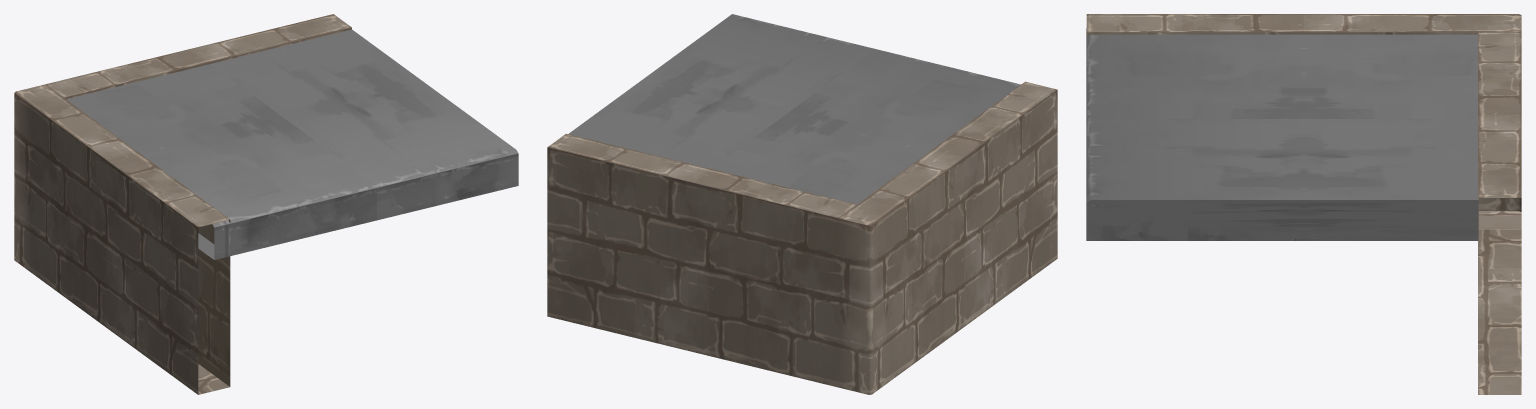
File: Stairs_Exterior_Platform45Clean.gltf
3 views of the same model, side by side, from view 1: azimuth 30°, elevation 25°; view 2: azimuth 150°, elevation 25°; view 3: azimuth 270°, elevation 25° (orthographic). The views are drawn at different scales.
Visible parts, largest first — view 1: Stairs_Exterior_Platform45Clean; view 2: Stairs_Exterior_Platform45Clean; view 3: Stairs_Exterior_Platform45Clean.
Boxes of the visible parts, x1,y1,x2,y2 form: Stairs_Exterior_Platform45Clean: (14, 14, 518, 394); Stairs_Exterior_Platform45Clean: (547, 14, 1057, 394); Stairs_Exterior_Platform45Clean: (1086, 14, 1521, 394).
Bounding box in the file's own units: 2 × 1 × 2.
2 materials, 2 textured.
